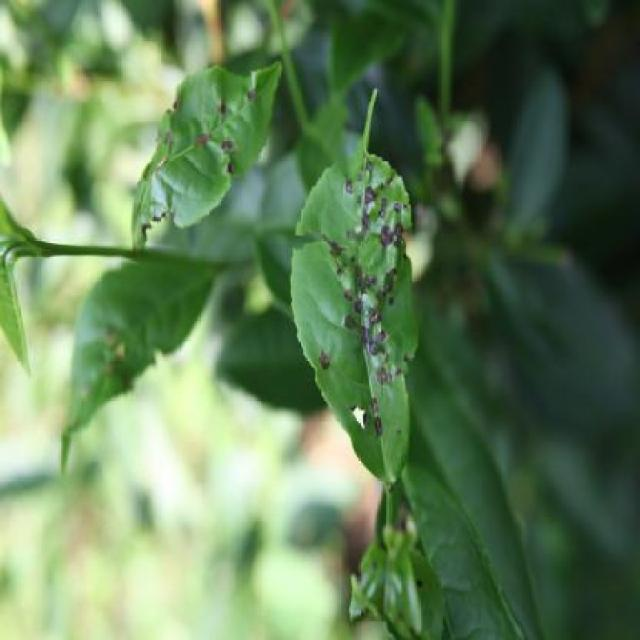Tea Mosquito bug infested leaf: (311, 155, 434, 531), (120, 86, 266, 302)
